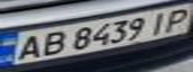3: (109, 17, 133, 44)
4: (90, 20, 115, 47)
8: (69, 25, 93, 52)
9: (124, 14, 154, 40)
A: (9, 33, 48, 62)
B: (33, 28, 69, 57)
I: (142, 9, 175, 36)
P: (157, 4, 193, 34)
